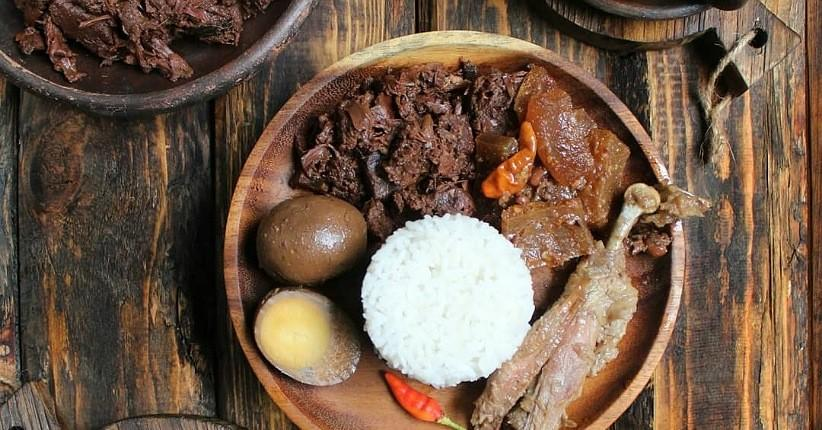gudeg: (252, 64, 662, 430)
